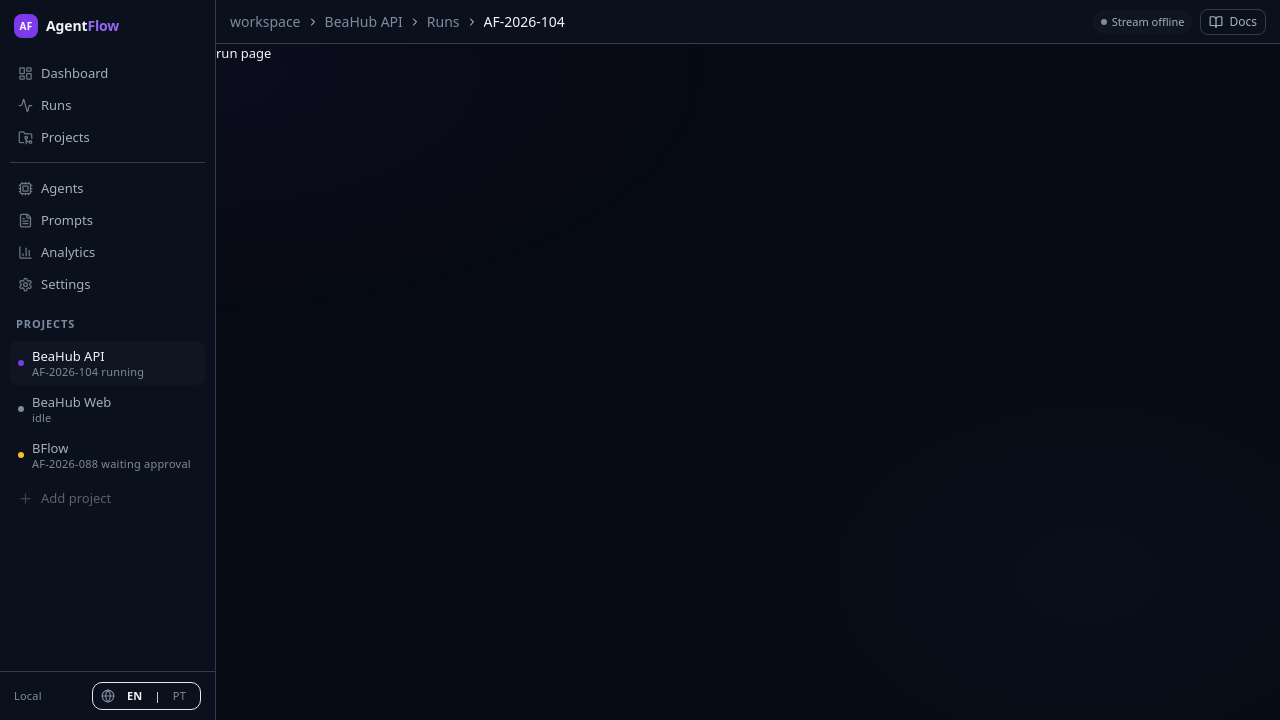
Scenario: the workspace sidebar › leaves a run behind when the project changes
Expected: the button "BeaHub API AF-2026-104 running" is shown, top-left (10, 341), bottom-right (205, 385)
Expected: the text "run page" is shown, top-left (216, 44), bottom-right (271, 62)
Click the button "BFlow AF-2026-088 waiting approval" at x=108, y=455, box top-left (10, 433), bottom-right (205, 477)
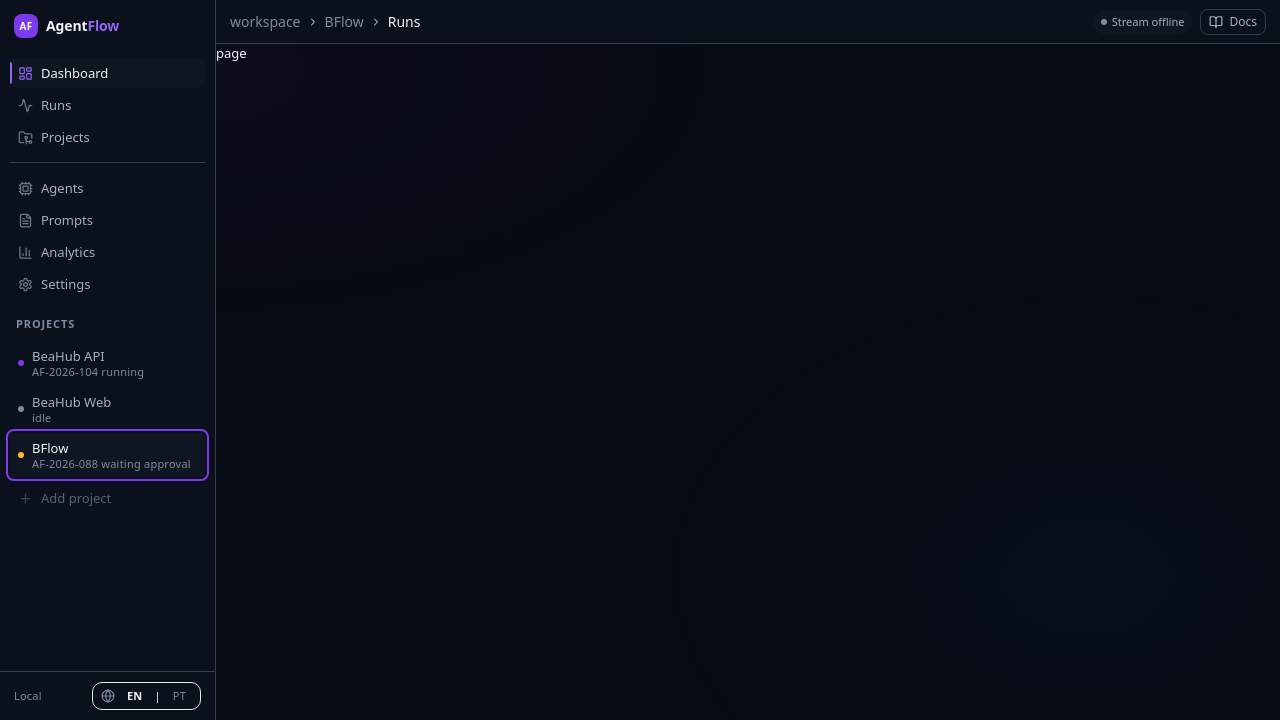
Now the text "run page" is gone
